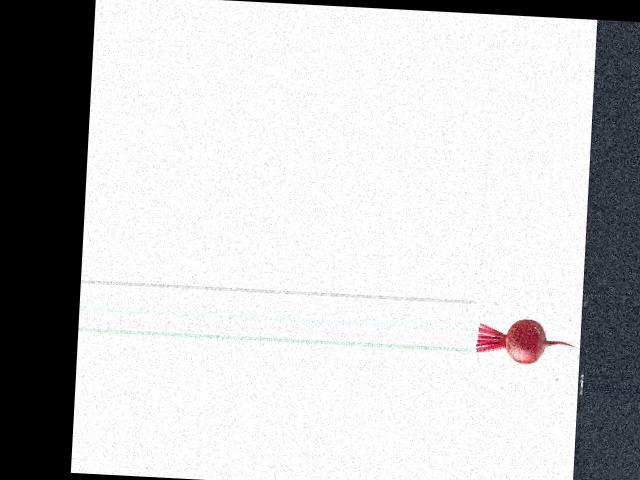beet: (475, 316, 578, 366)
